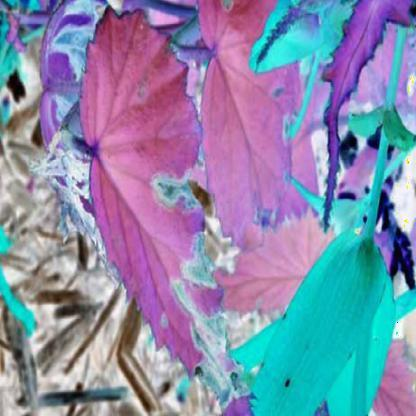Tomato leaf late blight: (70, 19, 236, 396)
